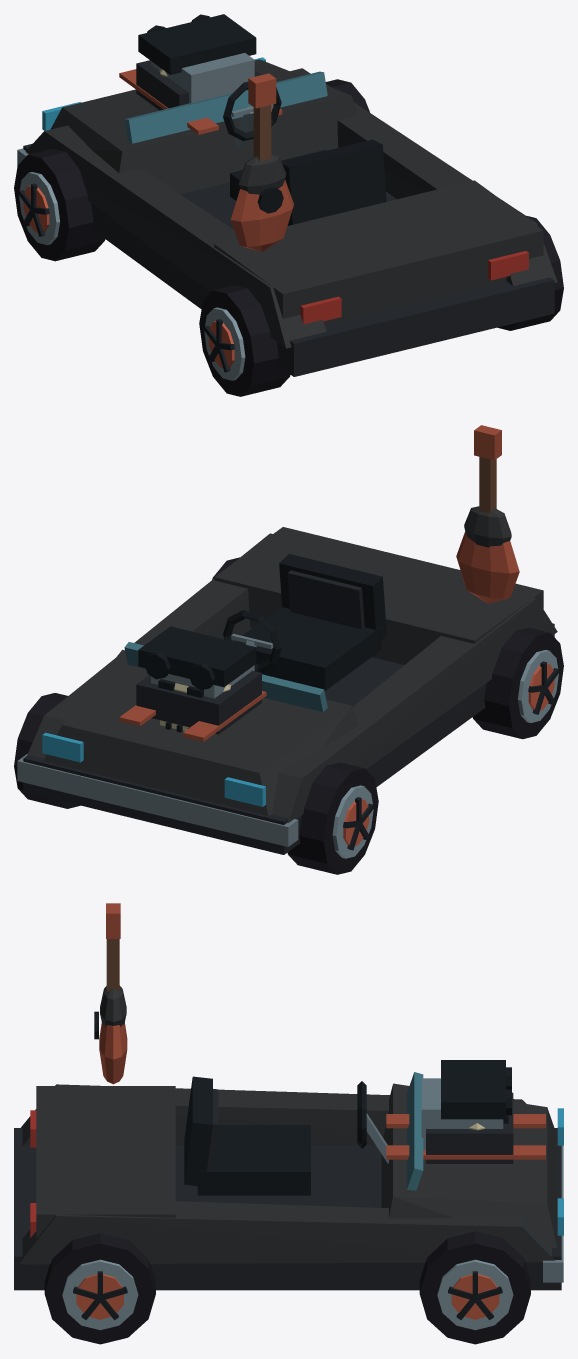
File: kart.glb
The picture shows the model from 3 angles, top to bottom: view 1: azimuth 30°, elevation 25°; view 2: azimuth 150°, elevation 25°; view 3: azimuth 270°, elevation 25°; orthographic projection.
Visible parts, largest first — view 1: identity-muscle-car-muscle-car-road-car-body, identity-muscle-car-driver-cockpit, identity-muscle-car-motif-blower, wheel-front-left, wheel-rear-left, identity-muscle-car-motif-guitar, wheel-rear-right, wheel-front-right; view 2: identity-muscle-car-muscle-car-road-car-body, identity-muscle-car-driver-cockpit, wheel-front-left, wheel-rear-left, identity-muscle-car-motif-guitar, identity-muscle-car-motif-blower, wheel-front-right, identity-muscle-car-motif-skull; view 3: identity-muscle-car-muscle-car-road-car-body, identity-muscle-car-driver-cockpit, wheel-front-right, wheel-rear-right, identity-muscle-car-motif-blower, identity-muscle-car-motif-guitar.
Boxes of the visible parts, x1=… form: identity-muscle-car-muscle-car-road-car-body: x1=17, y1=57, x2=557, y2=376; identity-muscle-car-driver-cockpit: x1=223, y1=81, x2=386, y2=225; identity-muscle-car-motif-blower: x1=138, y1=14, x2=256, y2=103; wheel-front-left: x1=14, y1=149, x2=105, y2=261; wheel-rear-left: x1=199, y1=285, x2=290, y2=396; identity-muscle-car-motif-guitar: x1=230, y1=73, x2=293, y2=251; wheel-rear-right: x1=497, y1=215, x2=563, y2=330; wheel-front-right: x1=325, y1=79, x2=369, y2=112; identity-muscle-car-muscle-car-road-car-body: x1=17, y1=527, x2=557, y2=854; identity-muscle-car-driver-cockpit: x1=223, y1=554, x2=386, y2=690; wheel-front-left: x1=287, y1=762, x2=378, y2=874; wheel-rear-left: x1=472, y1=627, x2=563, y2=739; identity-muscle-car-motif-guitar: x1=456, y1=425, x2=519, y2=603; identity-muscle-car-motif-blower: x1=138, y1=626, x2=256, y2=698; wheel-front-right: x1=14, y1=693, x2=80, y2=808; identity-muscle-car-motif-skull: x1=158, y1=679, x2=230, y2=732; identity-muscle-car-muscle-car-road-car-body: x1=14, y1=1072, x2=563, y2=1290; identity-muscle-car-driver-cockpit: x1=184, y1=1076, x2=388, y2=1195; wheel-front-right: x1=419, y1=1231, x2=530, y2=1344; wheel-rear-right: x1=44, y1=1233, x2=155, y2=1344; identity-muscle-car-motif-blower: x1=421, y1=1060, x2=511, y2=1150; identity-muscle-car-motif-guitar: x1=94, y1=903, x2=127, y2=1084.
Bounding box in the file's own units: 2.07 × 1.8 × 2.96.
